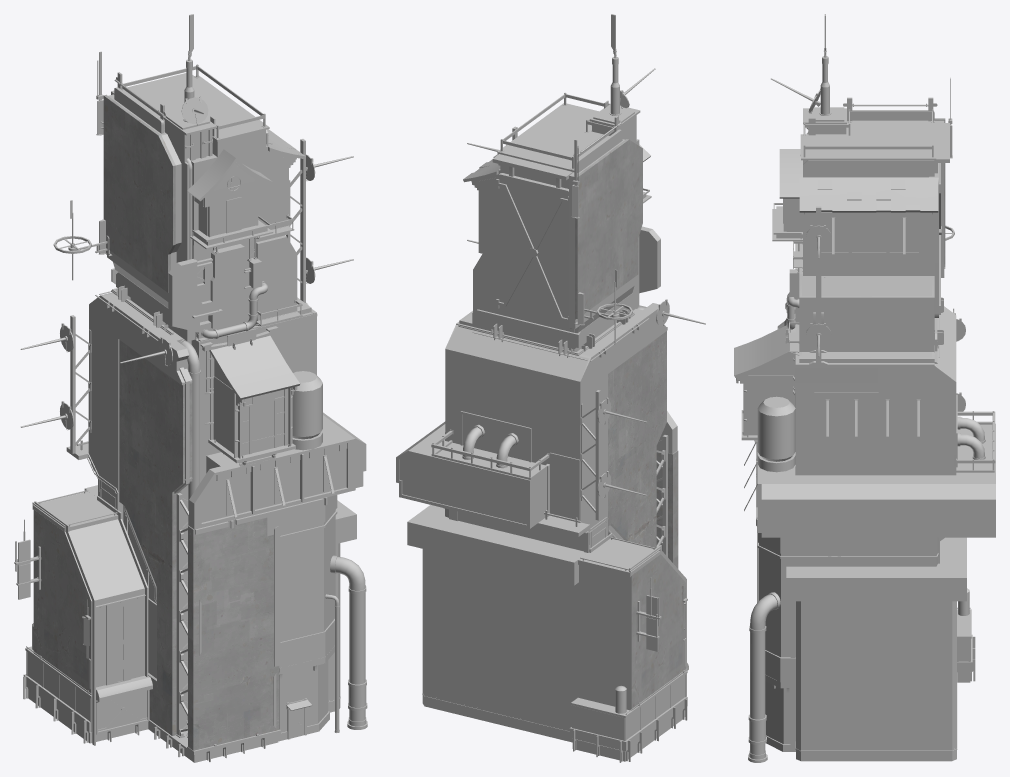
File: SM_Cit_Bui_23.fbx
The picture shows the model from 3 angles, left to right: view 1: azimuth 30°, elevation 25°; view 2: azimuth 150°, elevation 25°; view 3: azimuth 270°, elevation 25°; orthographic projection. The views are drawn at different scales.
Visible parts, largest first — view 1: SM_Cit_Bui_23BH.mo, SM_Cit_Bui_23AH.mo; view 2: SM_Cit_Bui_23AH.mo, SM_Cit_Bui_23BH.mo; view 3: SM_Cit_Bui_23AH.mo, SM_Cit_Bui_23BH.mo.
Boxes of the visible parts, x1,y1,x2,y2 form: SM_Cit_Bui_23BH.mo: [14, 14, 366, 761]; SM_Cit_Bui_23AH.mo: [18, 53, 367, 762]; SM_Cit_Bui_23AH.mo: [409, 51, 705, 761]; SM_Cit_Bui_23BH.mo: [396, 14, 687, 762]; SM_Cit_Bui_23AH.mo: [734, 50, 994, 762]; SM_Cit_Bui_23BH.mo: [734, 14, 995, 751].
Bounding box in the file's own units: 24.54 × 61.8 × 21.48.
